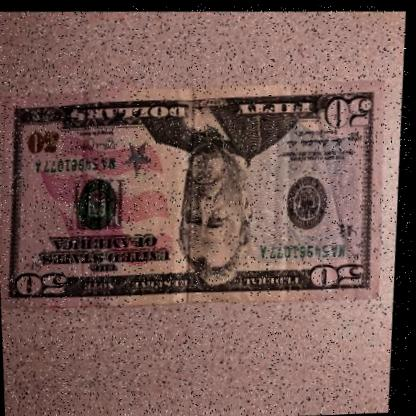fifty-front: (0, 60, 400, 324)
